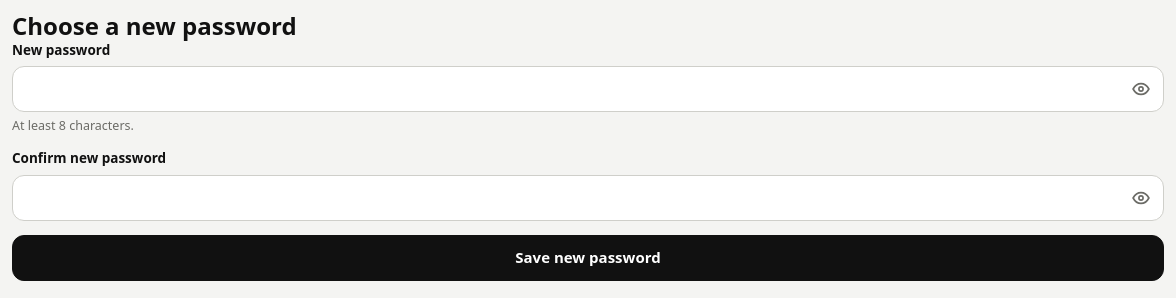
ResetForm › turns an expired or used link into the same next step
The image size is (1176, 298).
Type "orange kettle drum" into the password field labelled "New password".
click(588, 89); type("orange kettle drum")  # box [12,66,1164,112]
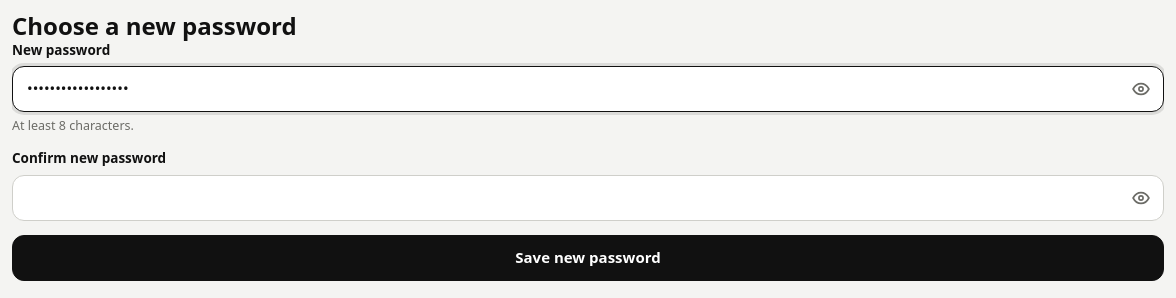
Type "orange kettle drum" into the password field labelled "Confirm new password".
click(588, 198); type("orange kettle drum")  # box [12,175,1164,221]
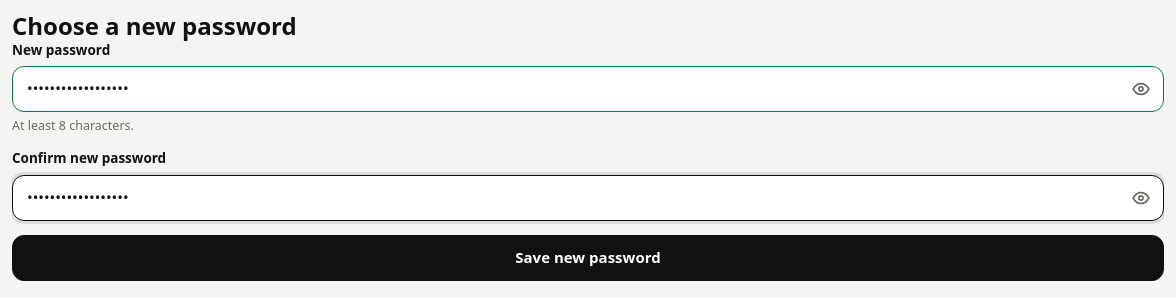
Click the button "Save new password".
click(588, 258)  # box [12,235,1164,281]
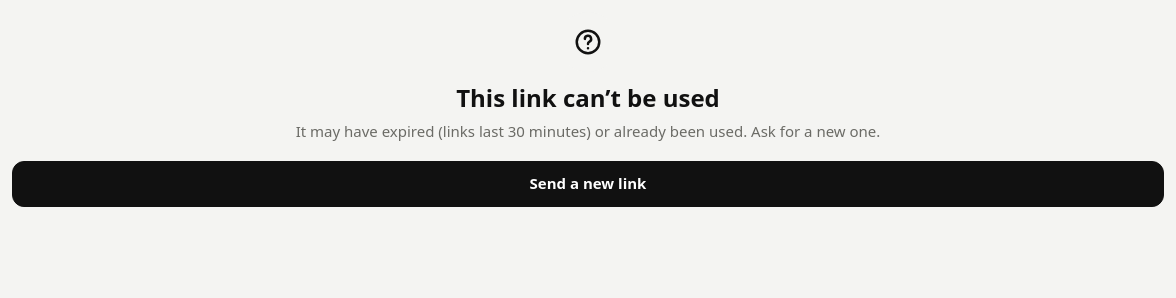
Expected: the heading "This link can’t be used" is shown, [456,81,720,114]
